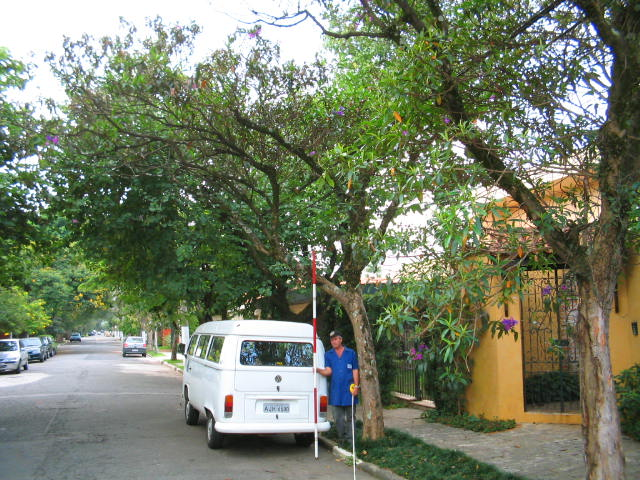stem: (345, 295, 390, 441)
stick: (305, 249, 320, 458)
tree: (49, 20, 445, 442)
